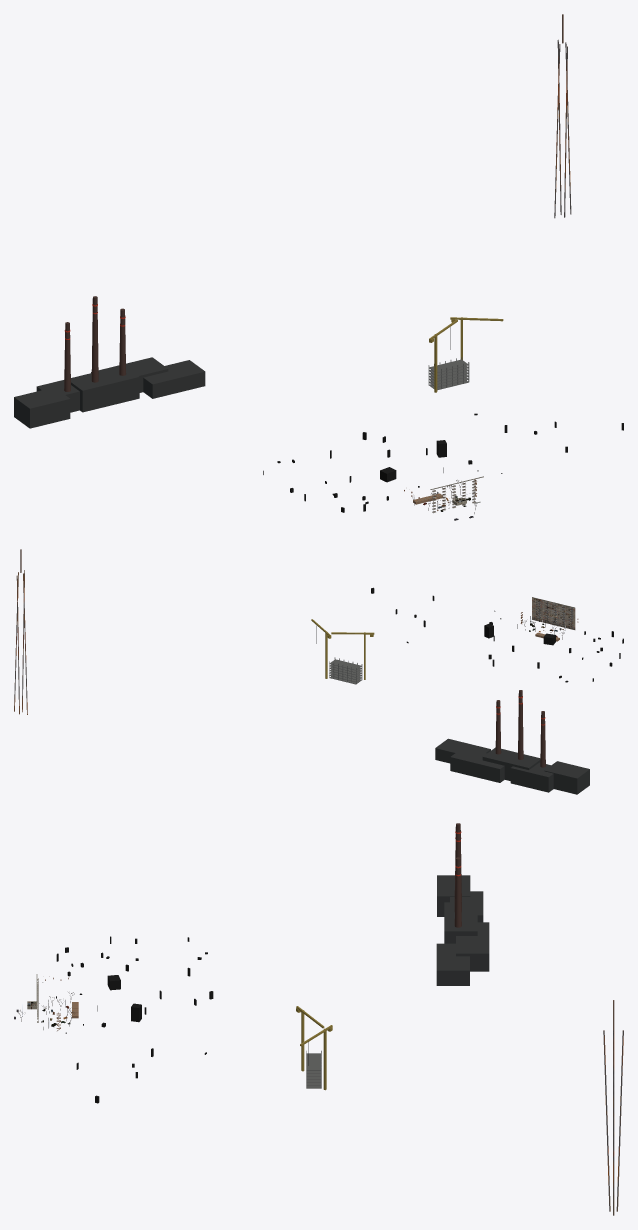
File: flat47.glb
3 views of the same model, one above another, from view 1: azimuth 30°, elevation 25°; view 2: azimuth 150°, elevation 25°; view 3: azimuth 270°, elevation 25° (orthographic). The views are drawn at different scales.
Visible parts, largest first — view 1: object 734, object 735, object 716, object 739, object 708; view 2: object 734, facade, object 735, object 716, object 739, object 708, object 737; view 3: object 734, object 716, object 708, object 735, object 737, object 739.
Part boxes in pixels (bbox=[...]): object 734: bbox=[14, 357, 205, 428]; object 735: bbox=[64, 296, 126, 391]; object 716: bbox=[554, 14, 571, 218]; object 739: bbox=[428, 357, 469, 390]; object 708: bbox=[263, 413, 623, 512]; object 734: bbox=[435, 738, 589, 794]; facade: bbox=[532, 598, 575, 629]; object 735: bbox=[495, 690, 545, 767]; object 716: bbox=[14, 549, 27, 714]; object 739: bbox=[329, 657, 362, 684]; object 708: bbox=[371, 587, 623, 682]; object 737: bbox=[311, 619, 374, 679]; object 734: bbox=[436, 875, 489, 985]; object 716: bbox=[49, 976, 623, 1215]; object 708: bbox=[56, 936, 213, 1103]; object 735: bbox=[454, 823, 461, 927]; object 737: bbox=[296, 1006, 332, 1090]; object 739: bbox=[306, 1050, 321, 1088].
Size of the model in its own units: 681 by 211 by 550.
301 materials, 179 textured.
